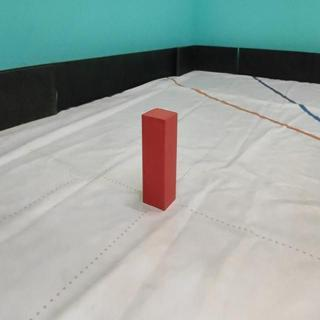redbox: (141, 107, 177, 211)
